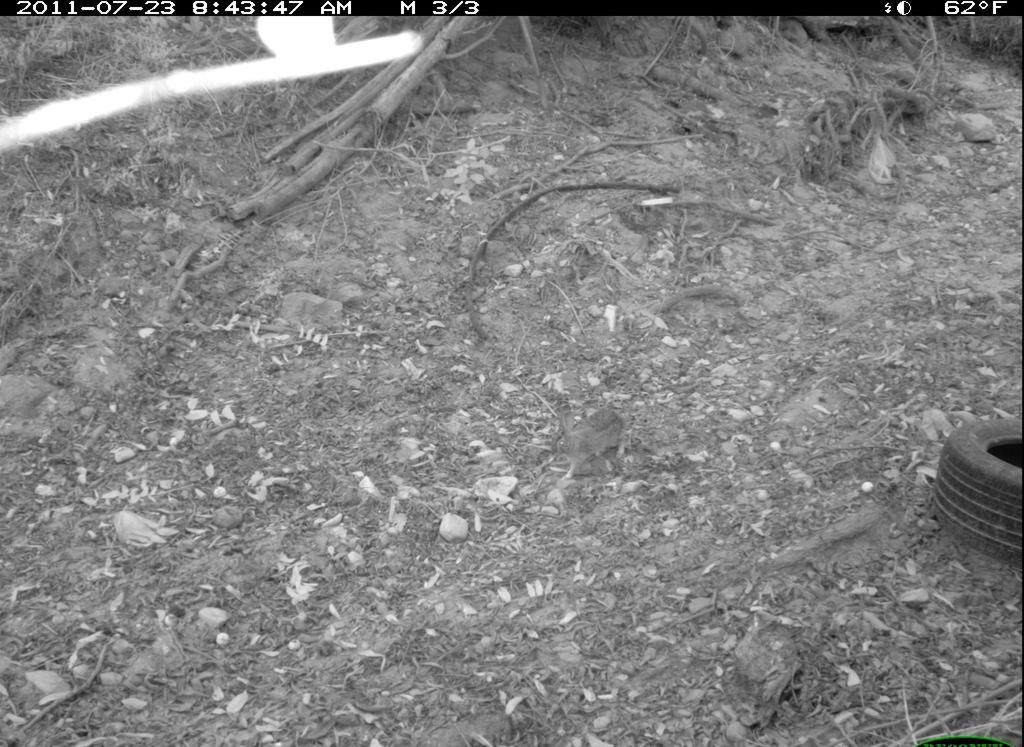rabbit: (550, 392, 628, 491)
